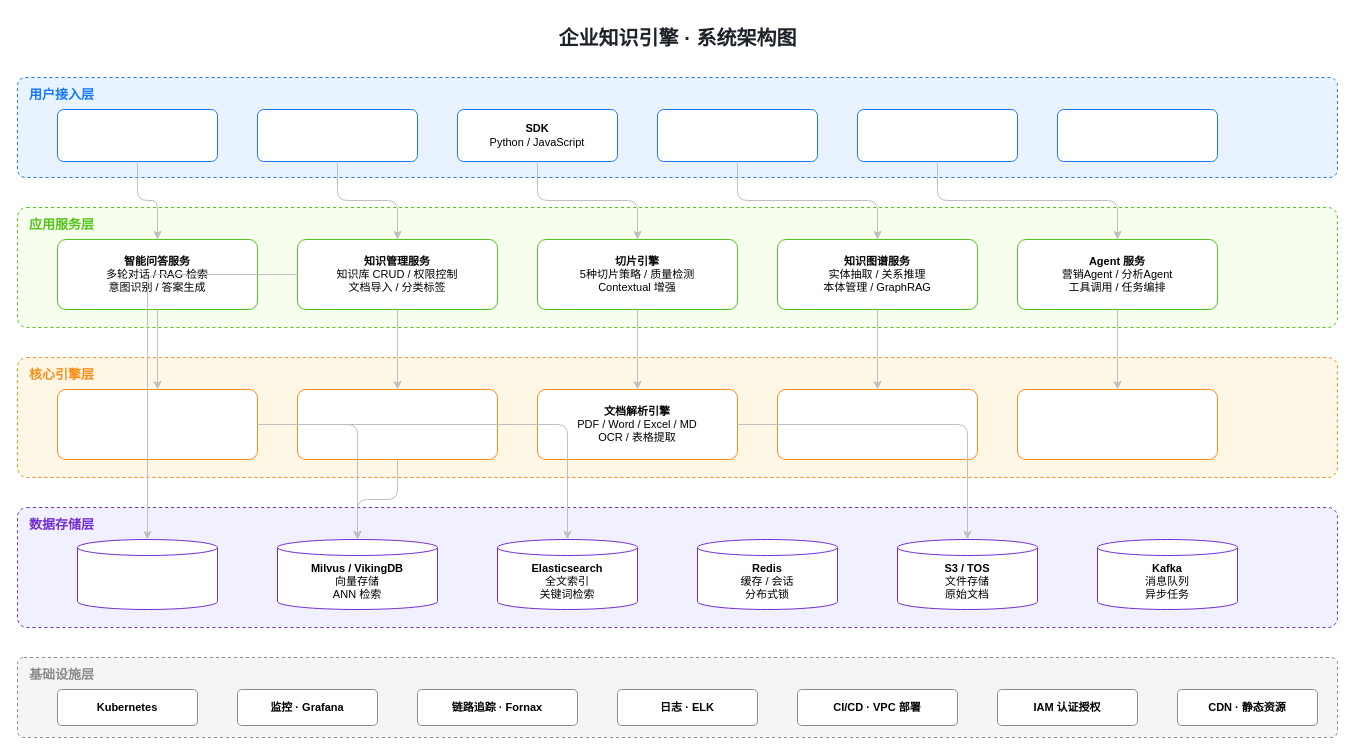
The diagram is 1355 pixels wide and 755 high, and some of its shapes have lost their labels. The box of each missing label's shape, as (x1, y1, x2, y2) in pixels:
LLM 管理 豆包 / GPT-4o / Claude Prompt 工厂 / Token 计量: (776, 388, 978, 460)
MySQL 元数据 / 配置 用户 / 权限: (76, 538, 218, 610)
NLP 引擎 分词 / NER / 术语库 意图分类 / 情感分析: (1016, 388, 1218, 460)
Open API RESTful / WebSocket: (256, 108, 418, 162)
Sophon 接入 DSL 查询 / 外部调用: (856, 108, 1018, 162)
Web 管理台 知识管理 / 问答测试: (56, 108, 218, 162)
向量化引擎 BGE-M3 / text-embedding-3 批量向量化 / 增量更新: (296, 388, 498, 460)
微信 / 企微 客服问答接入: (1056, 108, 1218, 162)
检索引擎 语义检索 / 关键词检索 混合检索 / Reranker: (56, 388, 258, 460)
飞书集成 Bot / 文档同步: (656, 108, 818, 162)
